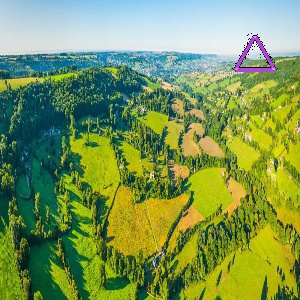triangle: (229, 31, 280, 74)
